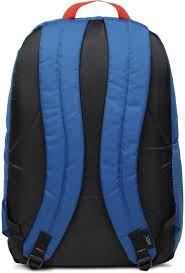backpack: (1, 0, 183, 270)
